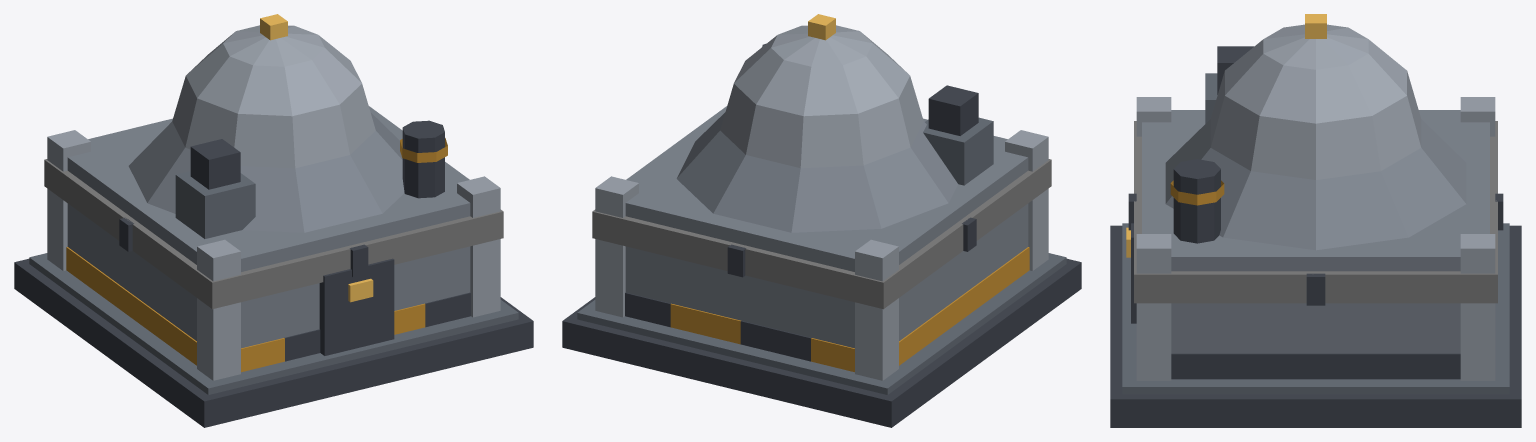
The model's file is supply.obj.
3 views of the same model, side by side, from view 1: azimuth 30°, elevation 25°; view 2: azimuth 150°, elevation 25°; view 3: azimuth 270°, elevation 25° (orthographic). The views are drawn at different scales.
Visible parts, largest first — view 1: supply; view 2: supply; view 3: supply.
Boxes of the visible parts, left/top/right/bottom form: supply: left=14, top=14, right=533, bottom=427; supply: left=562, top=14, right=1081, bottom=427; supply: left=1110, top=14, right=1521, bottom=427.
Size of the model in its own units: 5.2 by 4.5 by 5.2.
